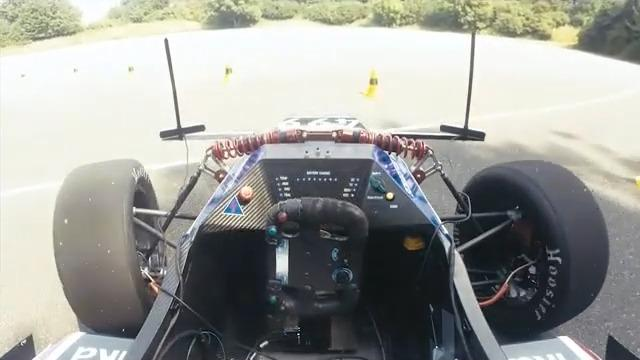yellow_cone: (359, 68, 388, 95)
